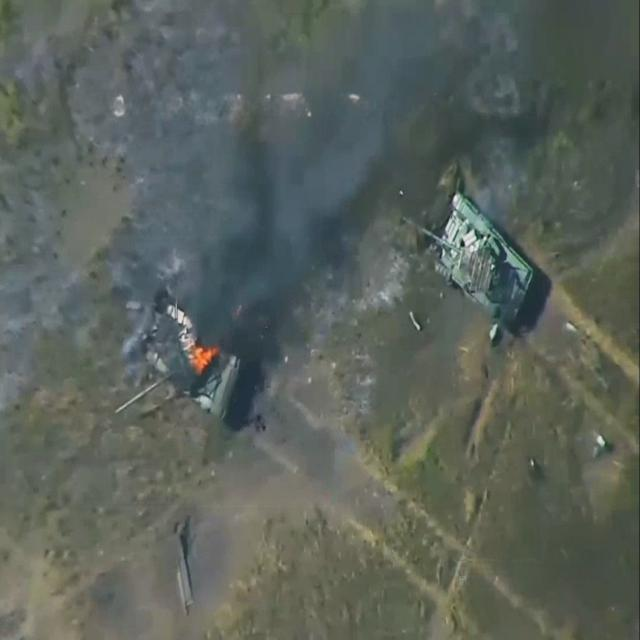MBT: (403, 191, 539, 340), (115, 303, 246, 435)
